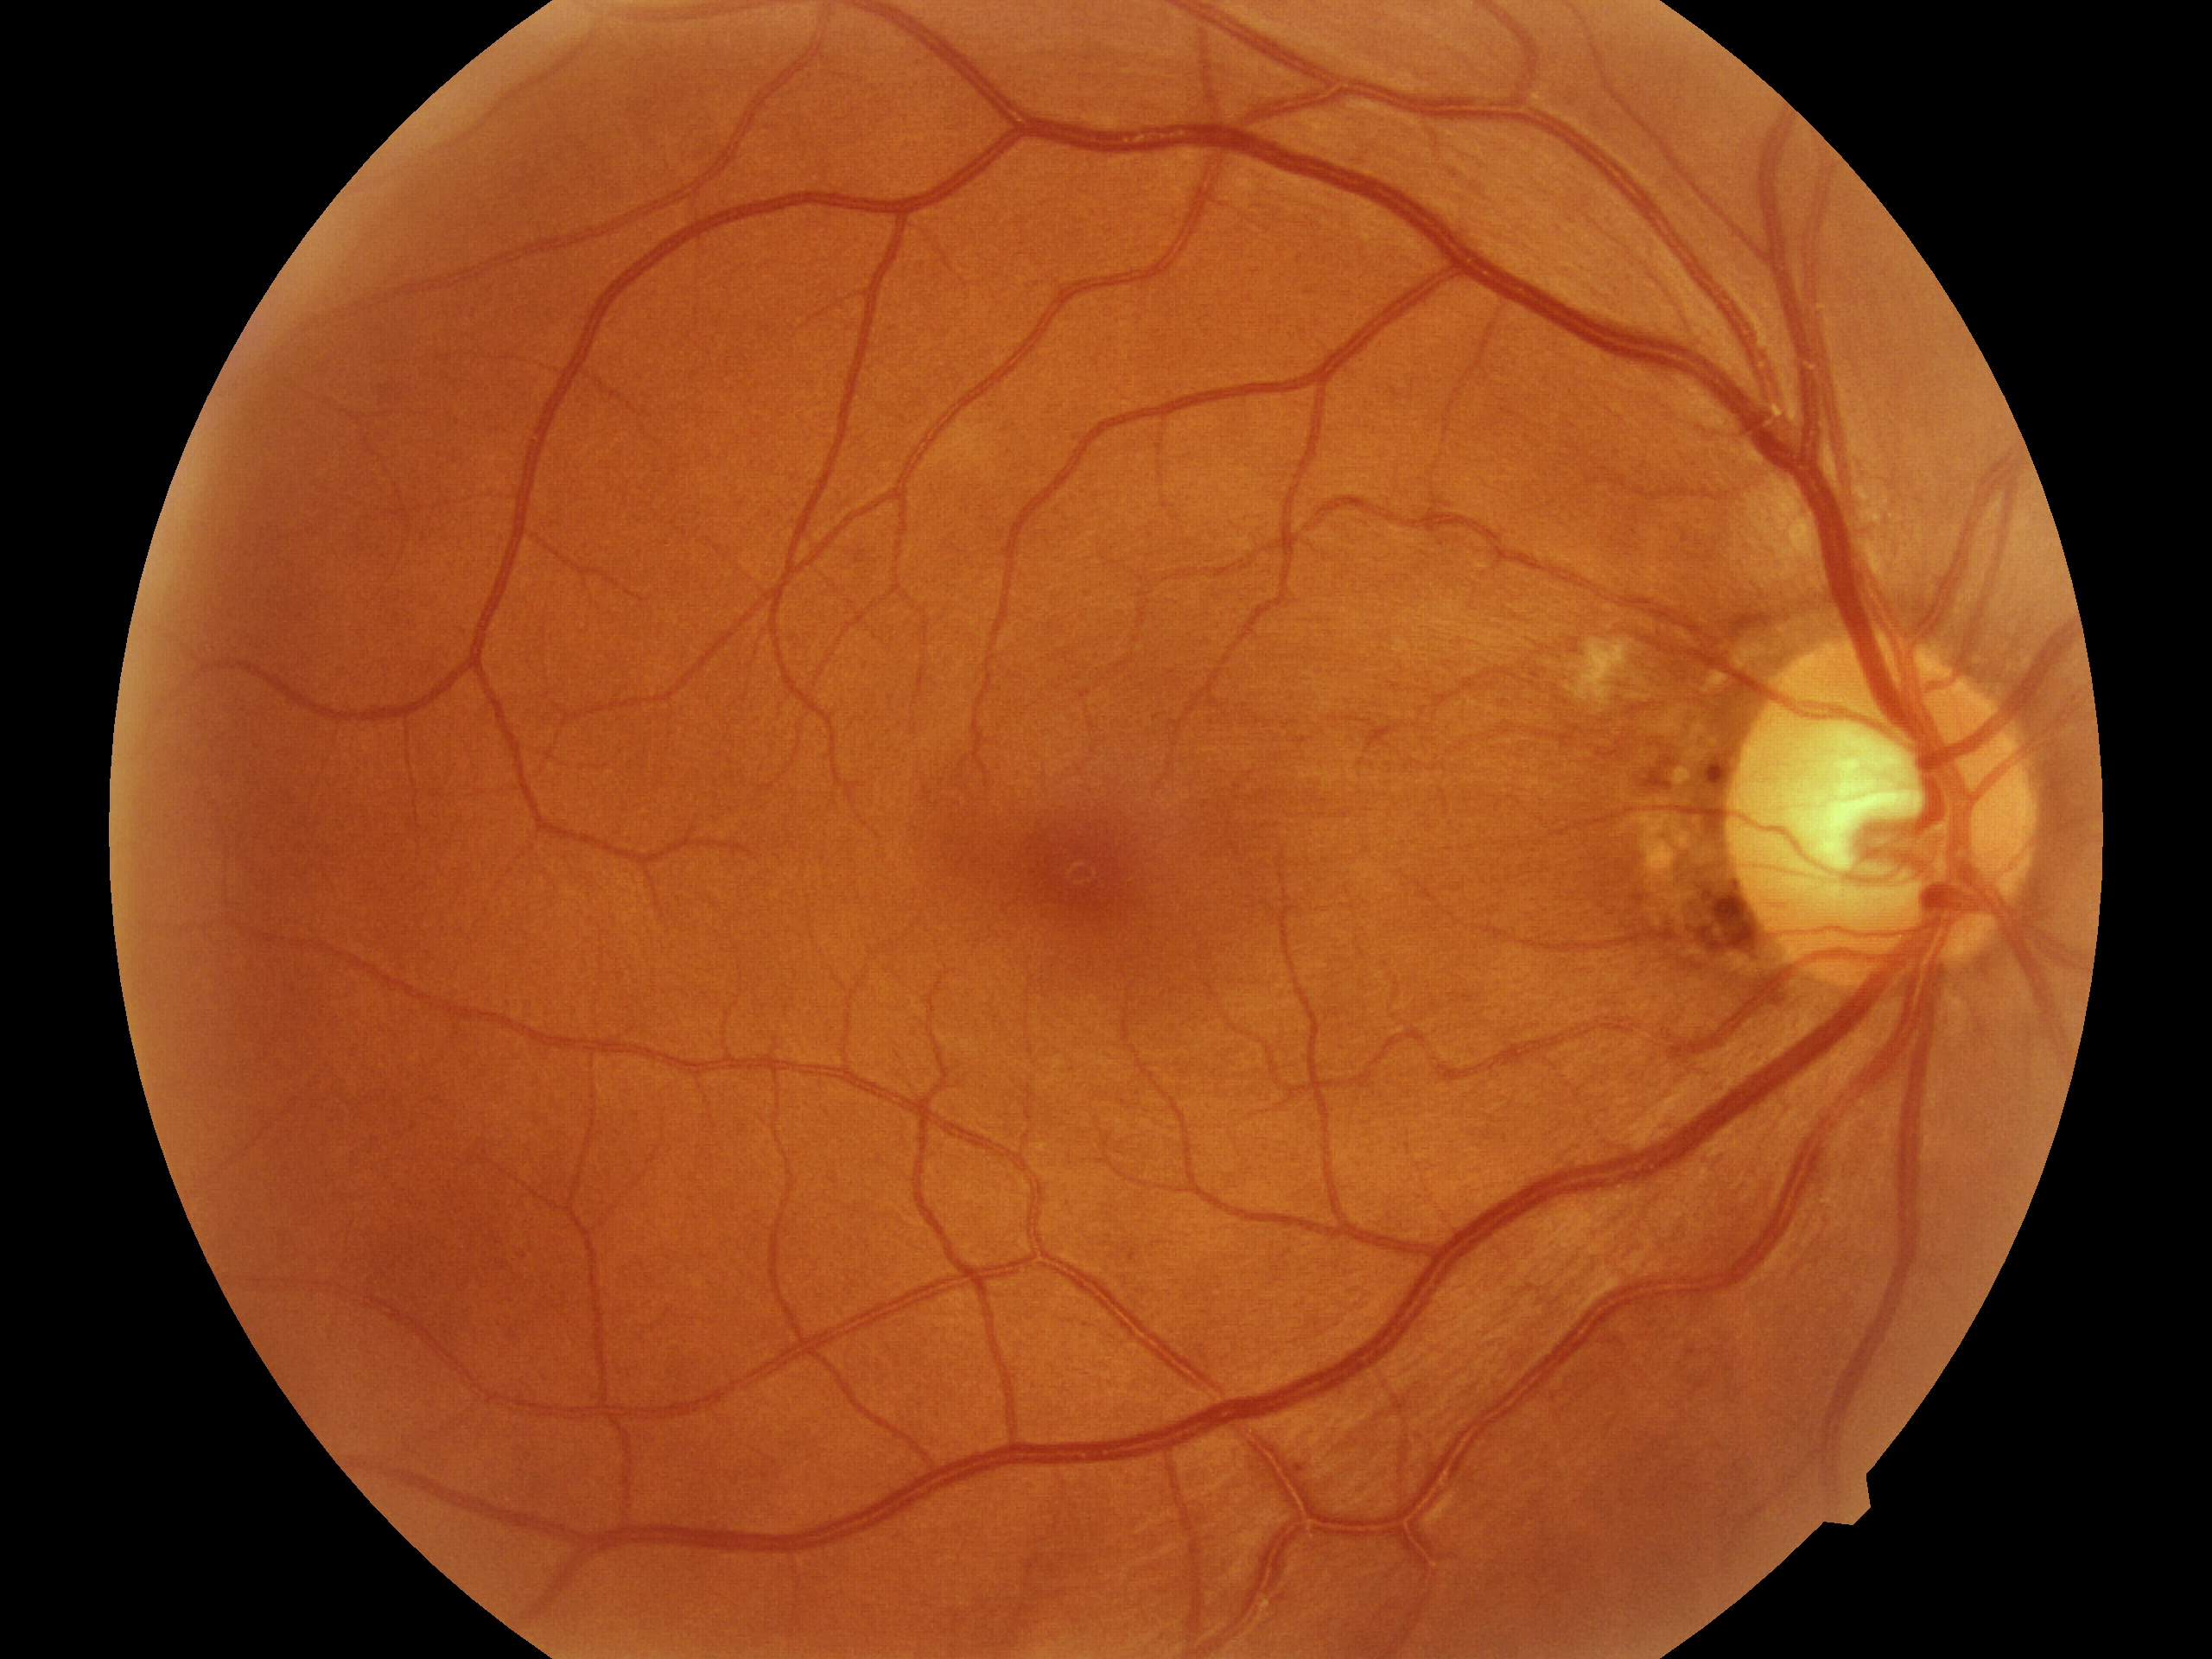Exudates: (1573, 622, 1721, 953)
Hemorrhages: (956, 770, 1233, 1023)
Optic-Disc: (1756, 622, 2026, 988)
Venules: (984, 63, 1827, 464), (833, 1140, 1622, 1539)
